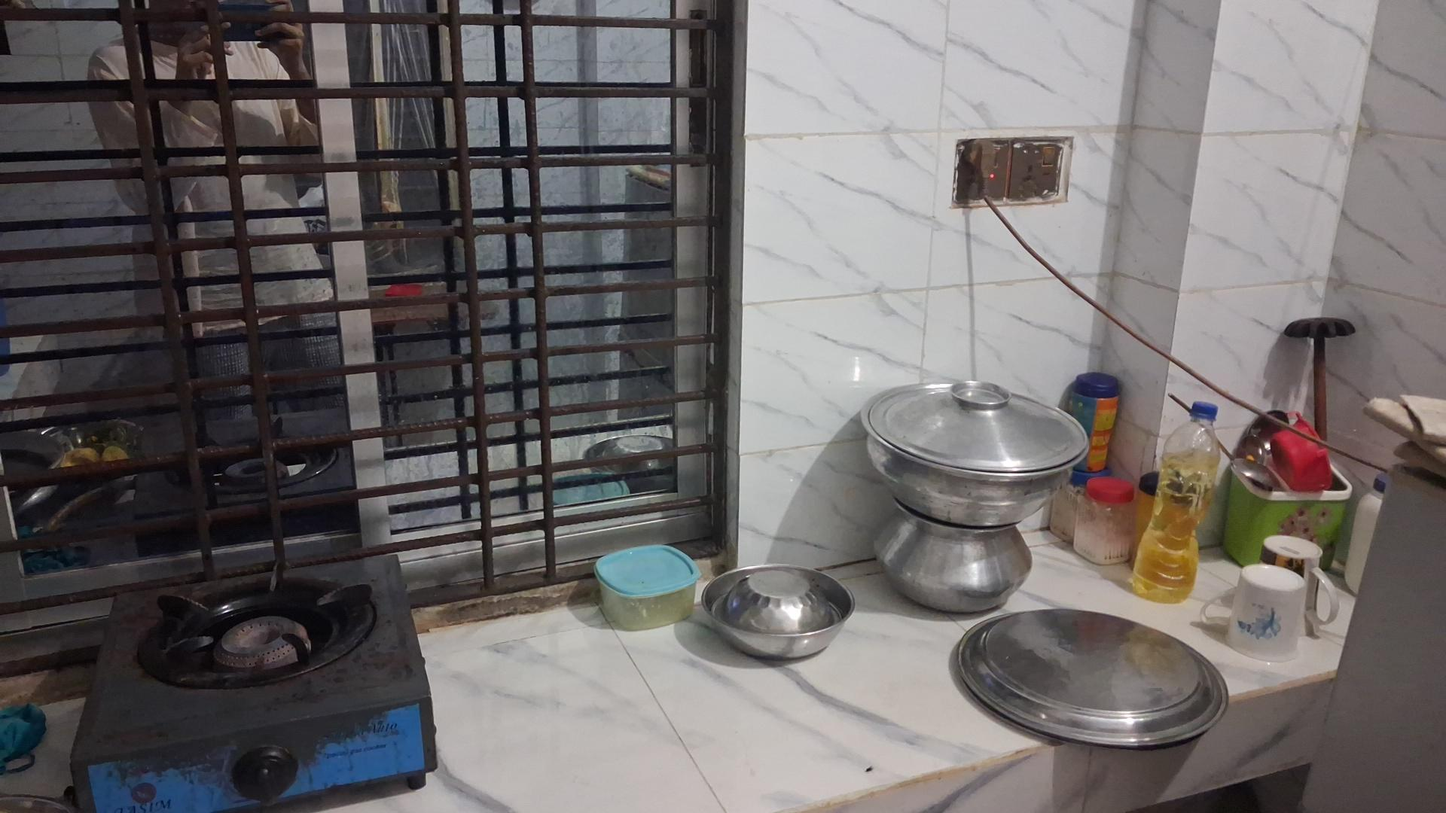Bottle: (1134, 401, 1224, 609)
Bowl: (696, 564, 855, 662)
Cup: (1226, 563, 1308, 664)
Jar: (594, 543, 700, 631), (1067, 375, 1118, 469), (1076, 479, 1131, 563)
Plate: (954, 613, 1225, 740)
Pot: (863, 381, 1087, 526), (878, 511, 1031, 610)
Window: (0, 0, 747, 617)
